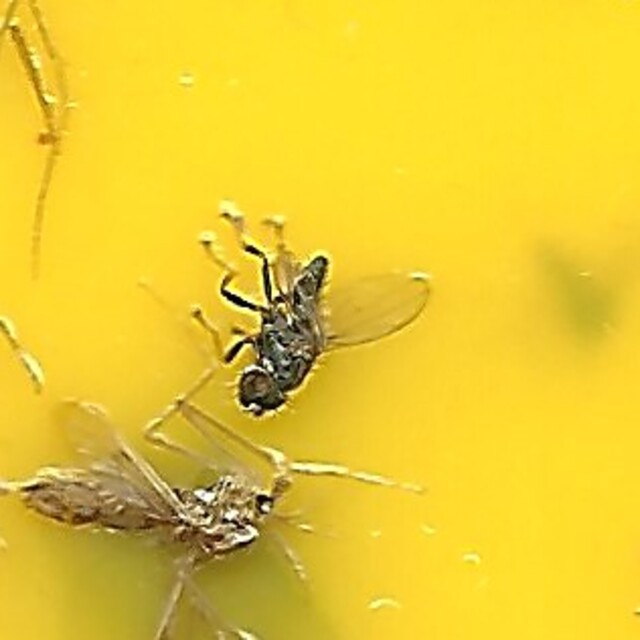Brachycera: (203, 213, 437, 427)
